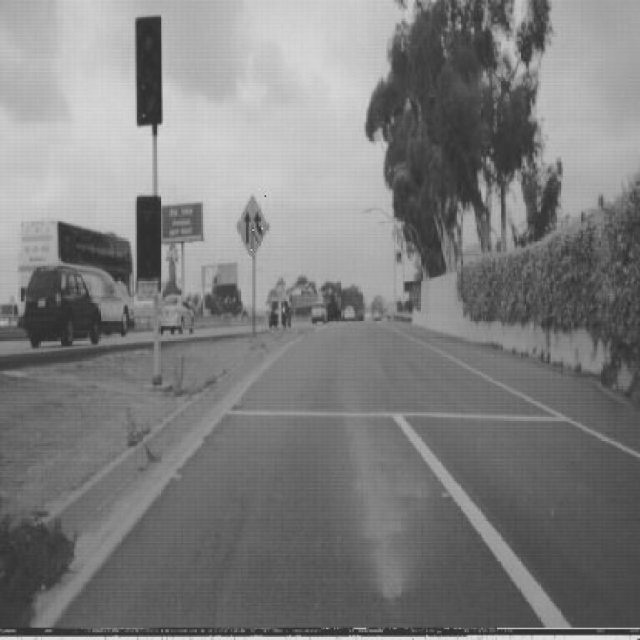addedLane: (237, 194, 271, 257)
